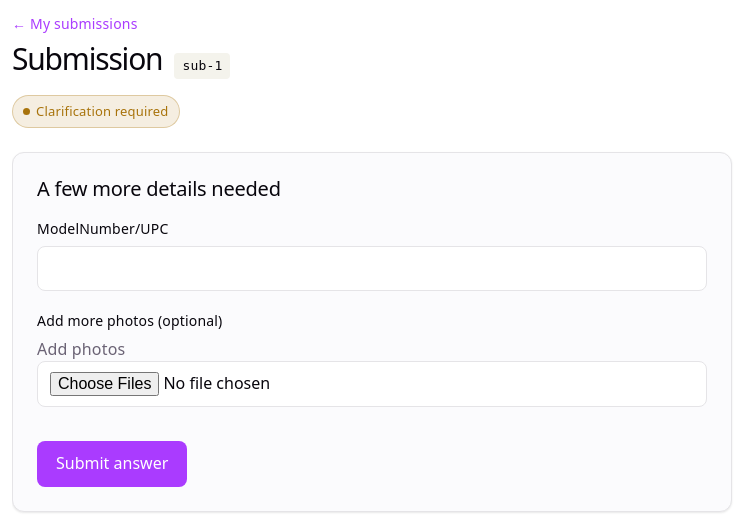
Test: SubmissionResult › shows the clarification-answer form for a Clarification required outcome, and submits it
In the field labelled "ModelNumber/UPC": (372, 268) [37,246,707,291], type "XYZ123"
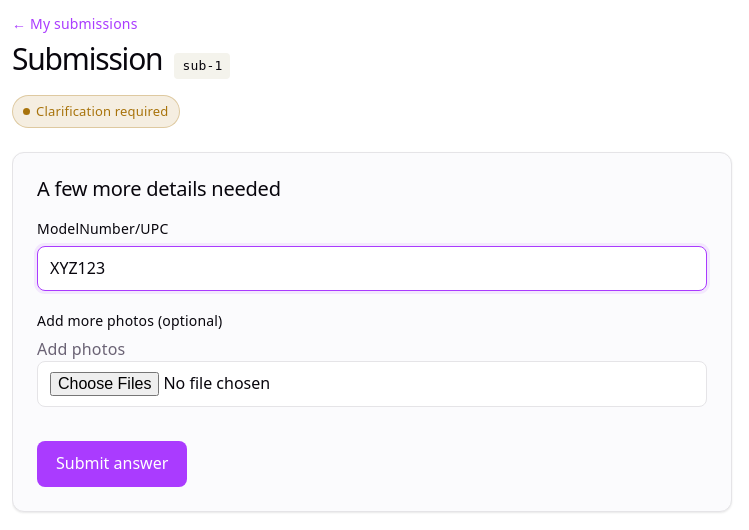
Click the button "Submit answer": (112, 464) [37,441,187,486]
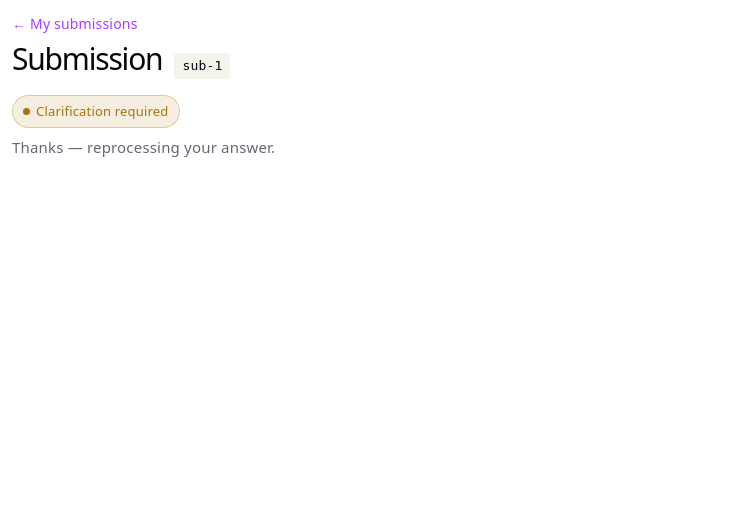
Expected: the text "Thanks — reprocessing your answer." is shown, [12,137,275,157]
